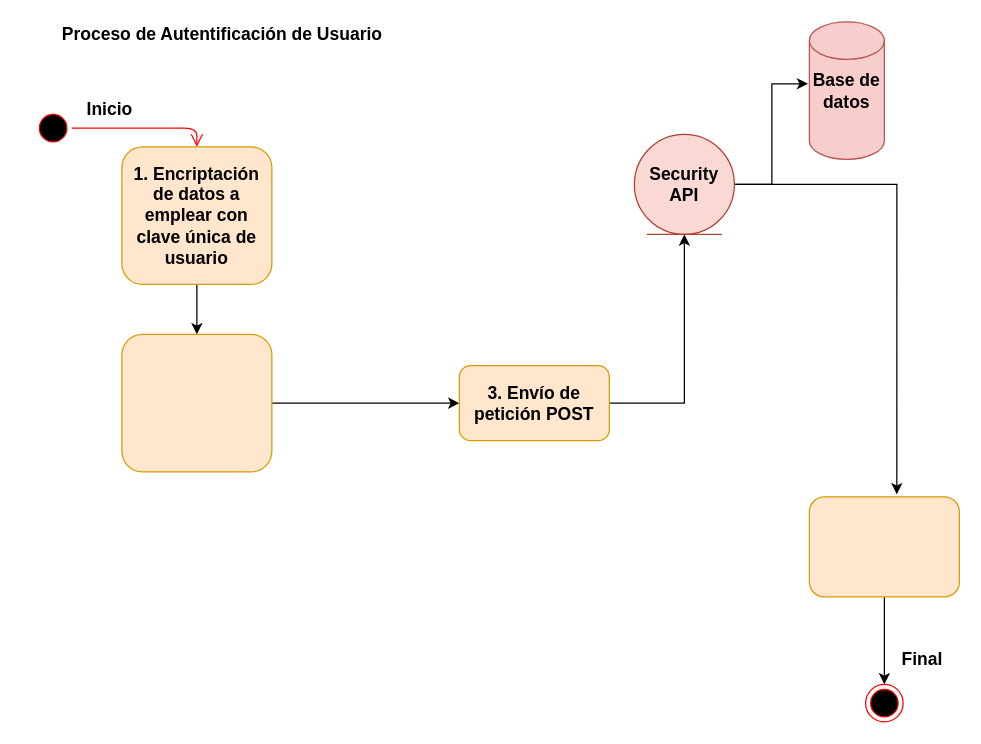
Some shapes in this 981 by 744 pixel diagram are drawn without their labels. The centre of each missing label's shape, as x and y in pixels:
2. Generación de petición POST con atributo new igual a false.: the point at 196,402
4. Respuesta con true o false: the point at 883,546
